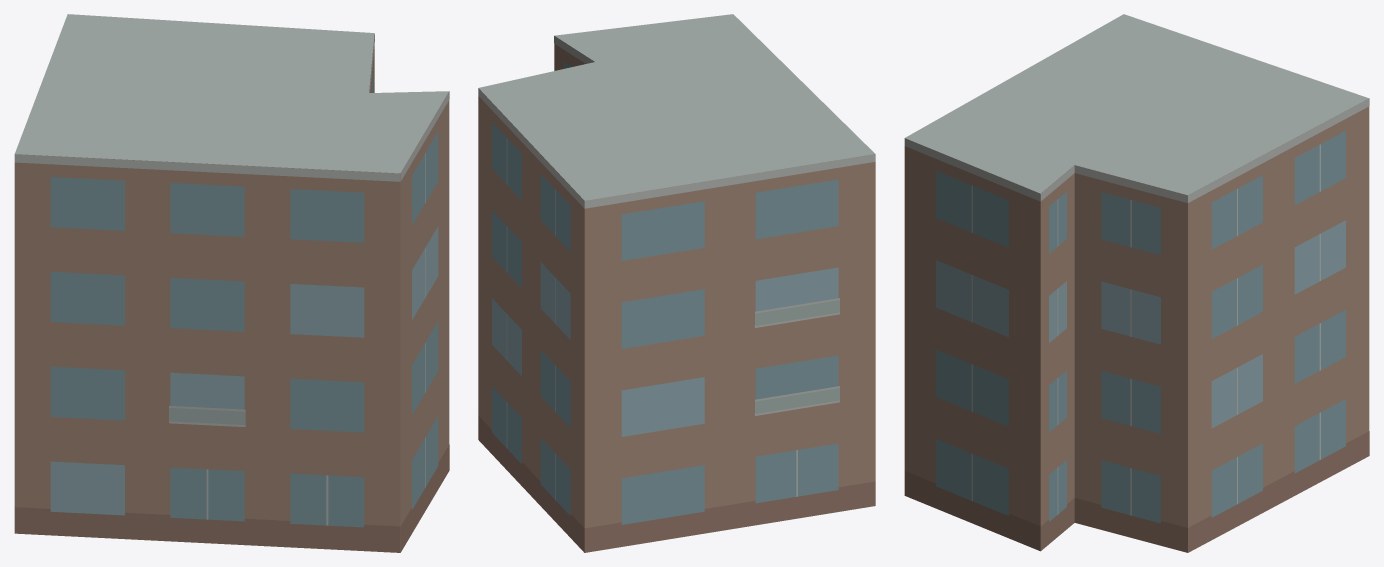
File: survey-upis-32854883.glb
3 views of the same model, side by side, from view 1: azimuth 30°, elevation 25°; view 2: azimuth 150°, elevation 25°; view 3: azimuth 270°, elevation 25° (orthographic). The views are drawn at different scales.
Visible parts, largest first — view 1: survey-upis-32854883.tmp; view 2: survey-upis-32854883.tmp; view 3: survey-upis-32854883.tmp.
Part boxes in pixels (bbox=[...]): survey-upis-32854883.tmp: bbox=[14, 14, 449, 552]; survey-upis-32854883.tmp: bbox=[478, 14, 875, 552]; survey-upis-32854883.tmp: bbox=[904, 14, 1369, 552].
Size of the model in its own units: 11.97 by 11 by 12.96.
